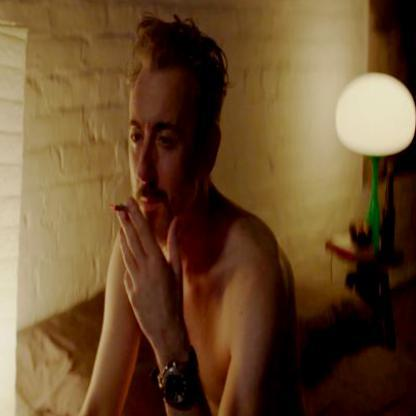cigarette: (110, 202, 132, 214)
person: (121, 25, 278, 416)
